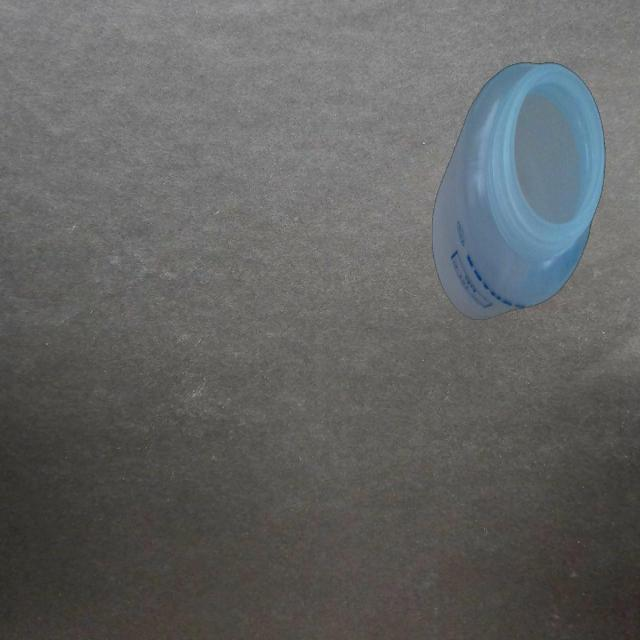bottle: (428, 58, 608, 324)
